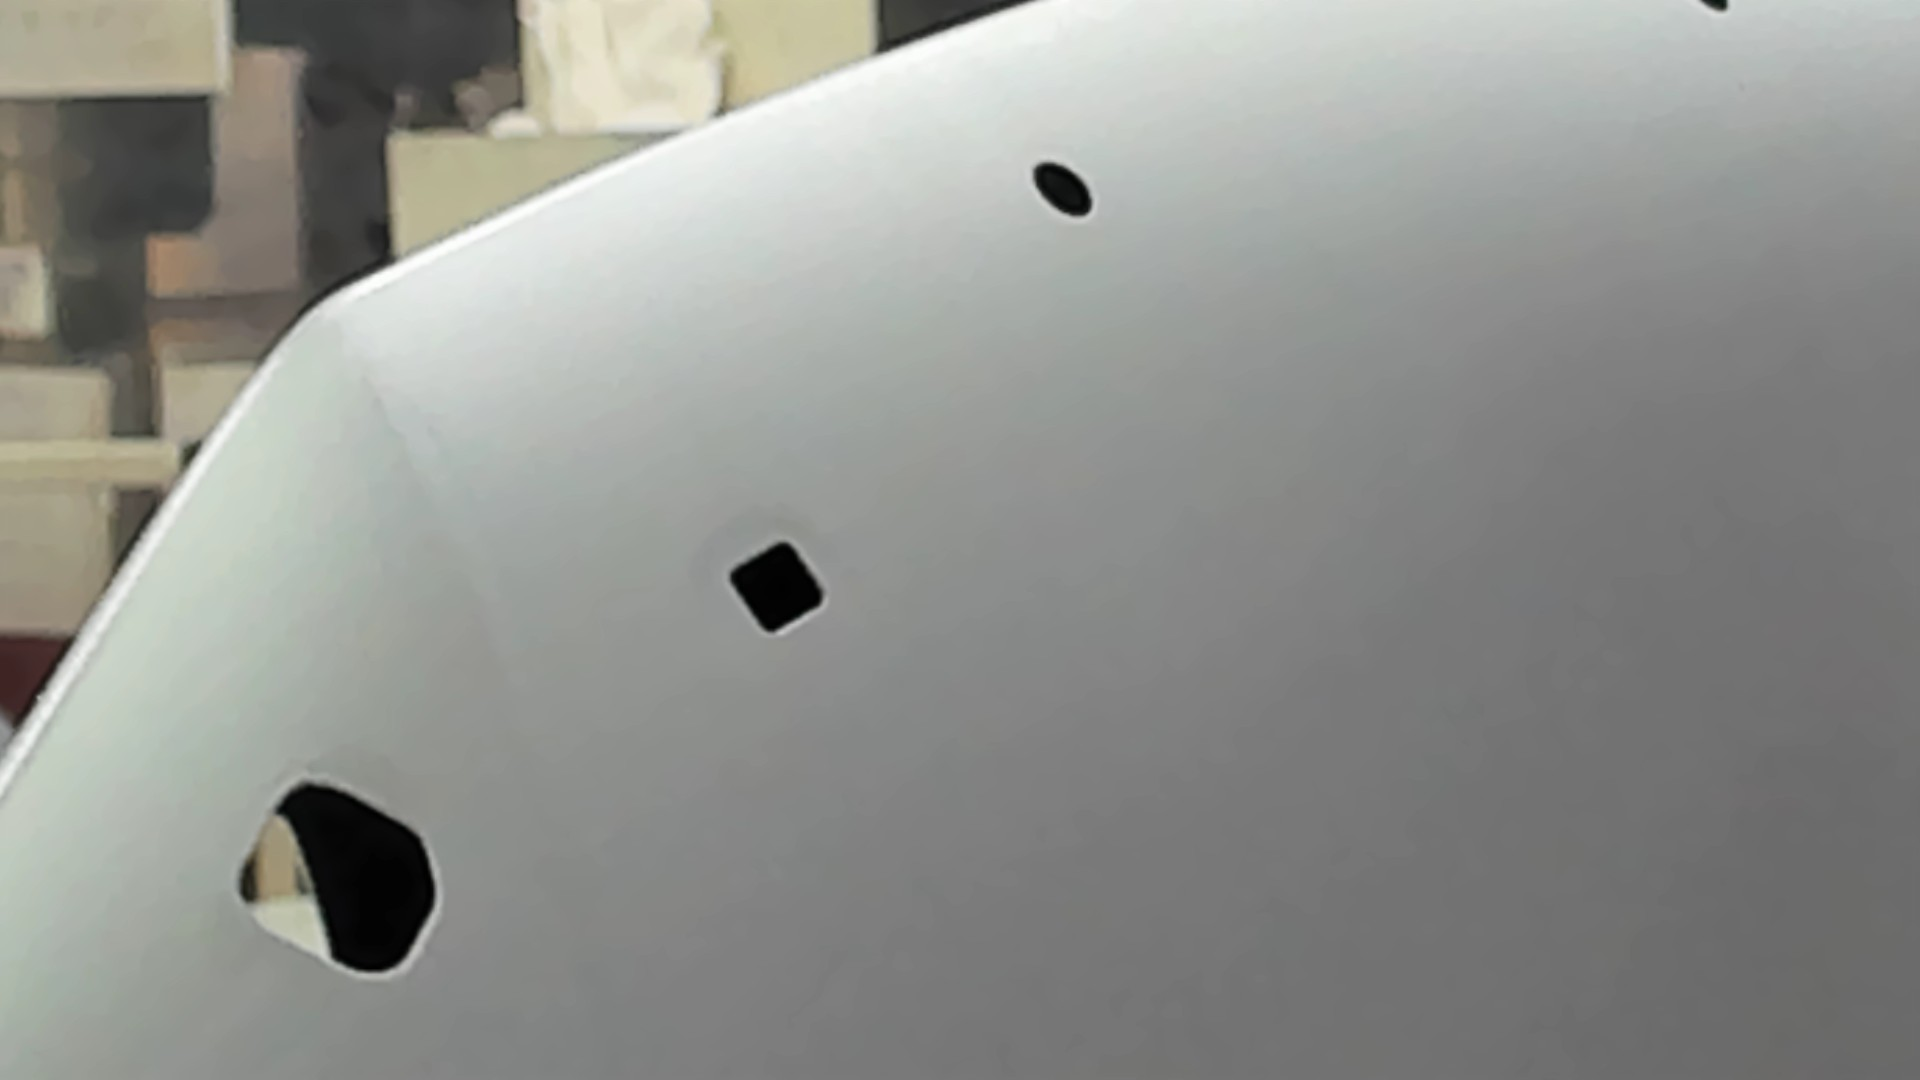chico: (1026, 157, 1101, 222), (1691, 1, 1737, 18)
grande: (229, 773, 444, 986)
mediano: (721, 530, 837, 646)
